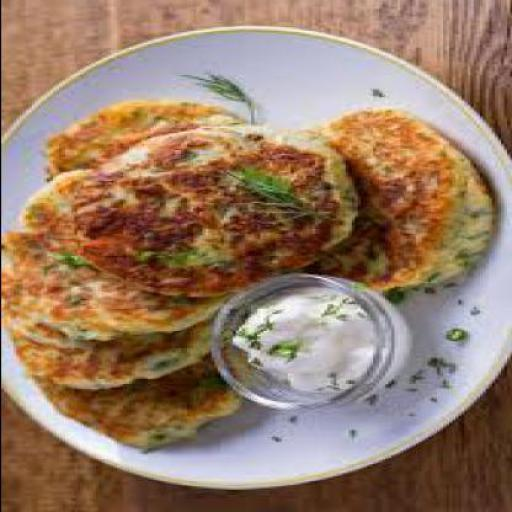biodegradable: (70, 126, 345, 302), (280, 110, 490, 292), (16, 172, 222, 342), (2, 234, 204, 392), (24, 355, 232, 452), (37, 103, 244, 183), (0, 236, 113, 350), (176, 75, 246, 110)
glass: (207, 274, 412, 414)
